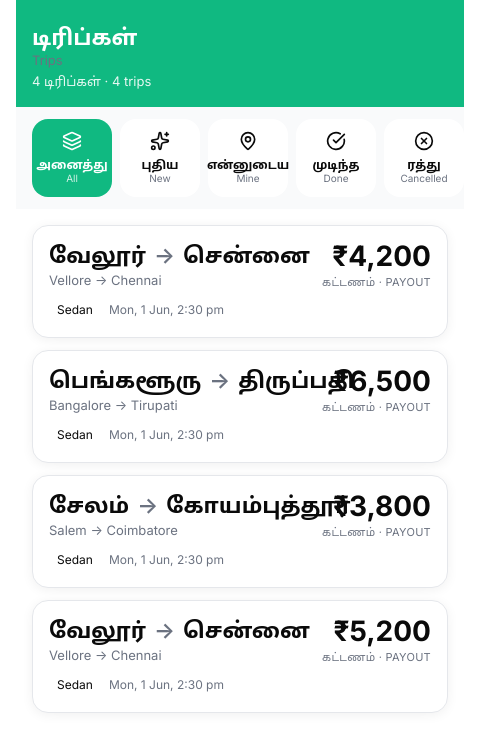
BharatTripsListPage (v6) › filters to open/has_applicants when the New tile is tapped
The width and height of the screenshot is (481, 730).
Click the button "புதிய New" at [160, 158], box 120,119 -> 200,197
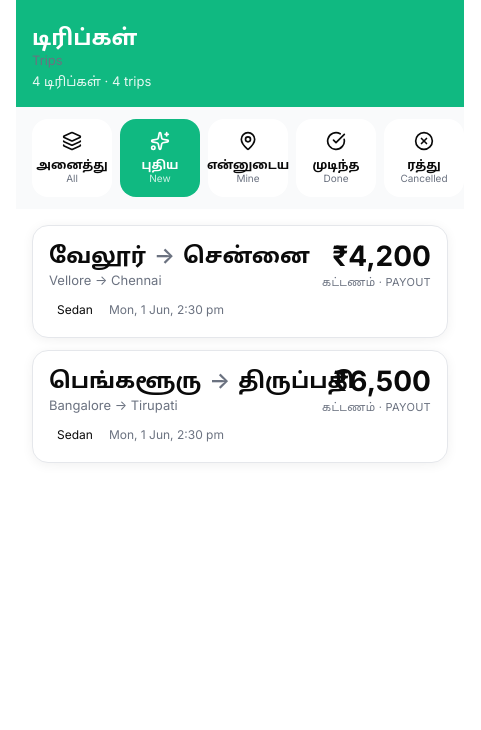
Check: the text "பெங்களூரு" is shown, box 49,367 -> 201,393
Check: the link "சேலம்" is gone
